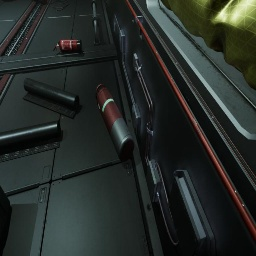FireExtinguisher ]: (53, 39, 82, 52)
NitrogenTank ,: (95, 84, 135, 162), (33, 0, 47, 5)
